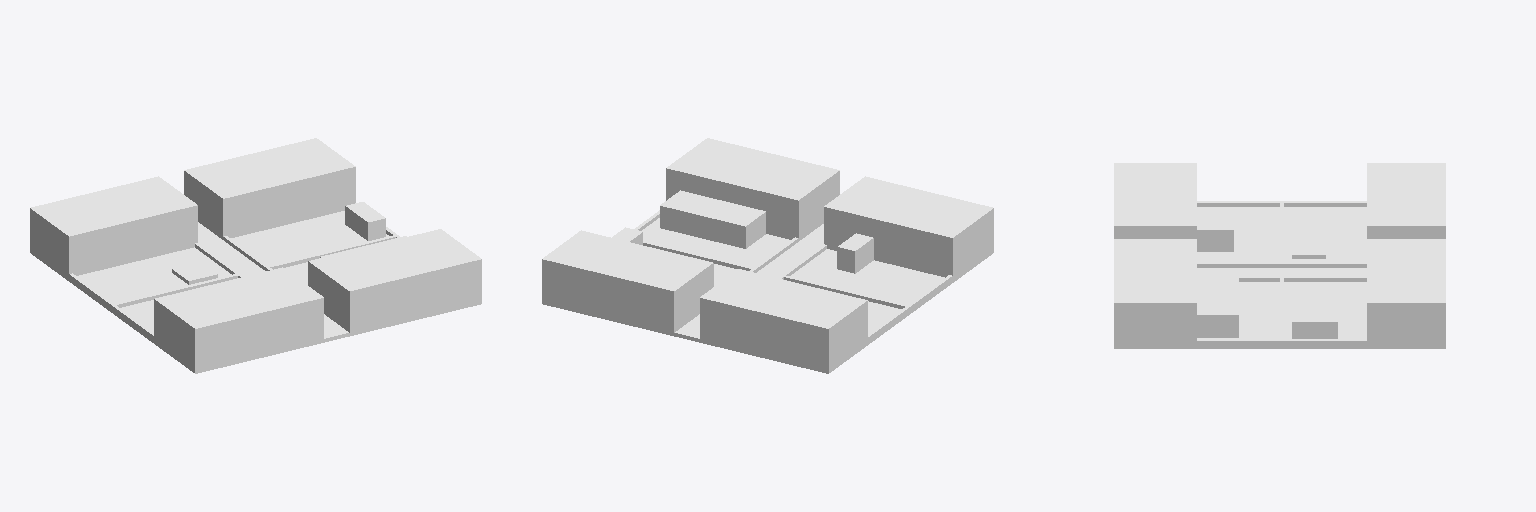
File: Asset-12.obj
3 views of the same model, side by side, from view 1: azimuth 30°, elevation 25°; view 2: azimuth 150°, elevation 25°; view 3: azimuth 270°, elevation 25° (orthographic).
Parts seen in each view (by area): view 1: Asset-12; view 2: Asset-12; view 3: Asset-12.
Boxes of the visible parts, x1,y1,x2,y2 form: Asset-12: [30, 138, 481, 373]; Asset-12: [542, 138, 993, 373]; Asset-12: [1114, 163, 1445, 348].
Bounding box in the file's own units: 80 × 12 × 80.